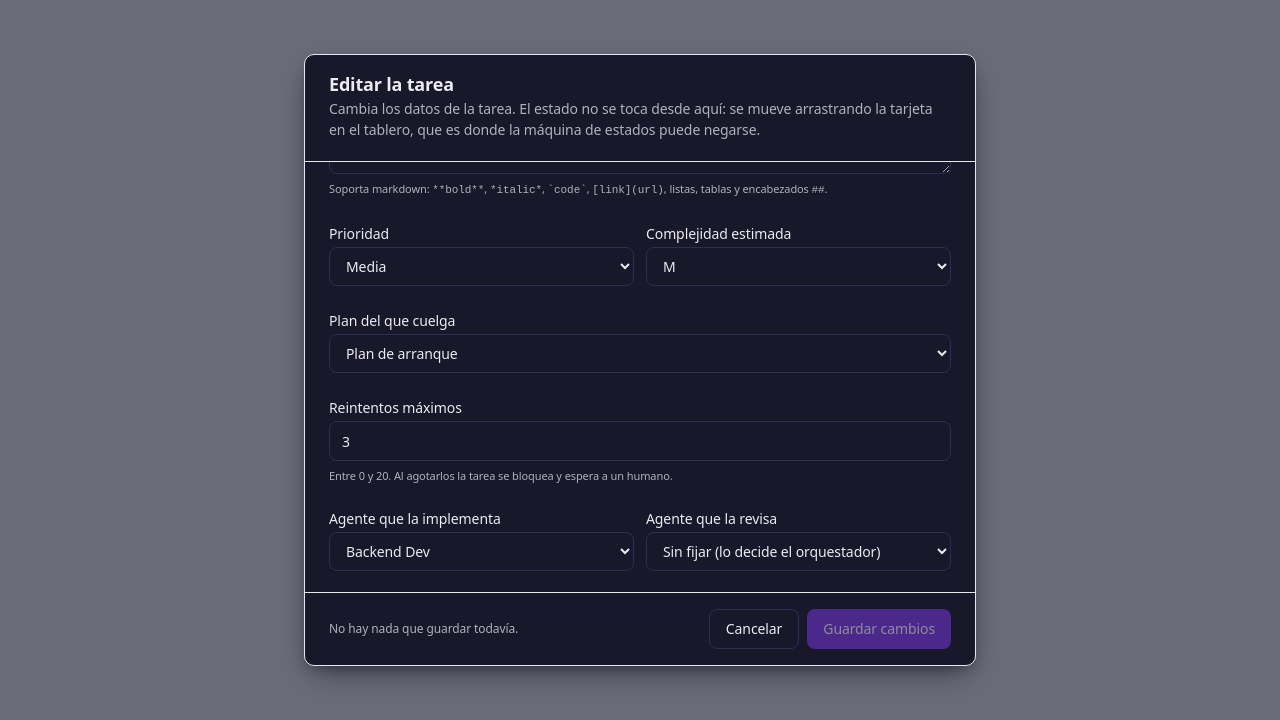
Test: TaskEditDialog — la validación de cliente espeja al servidor › avisa —sin bloquear— de que revisor e implementador serían el mismo agente
(page scrolled)
Step 1. Select "Backend Dev" in the dropdown with test id "task-edit-reviewer" → (798, 552), box top-left (646, 532), bottom-right (951, 572)
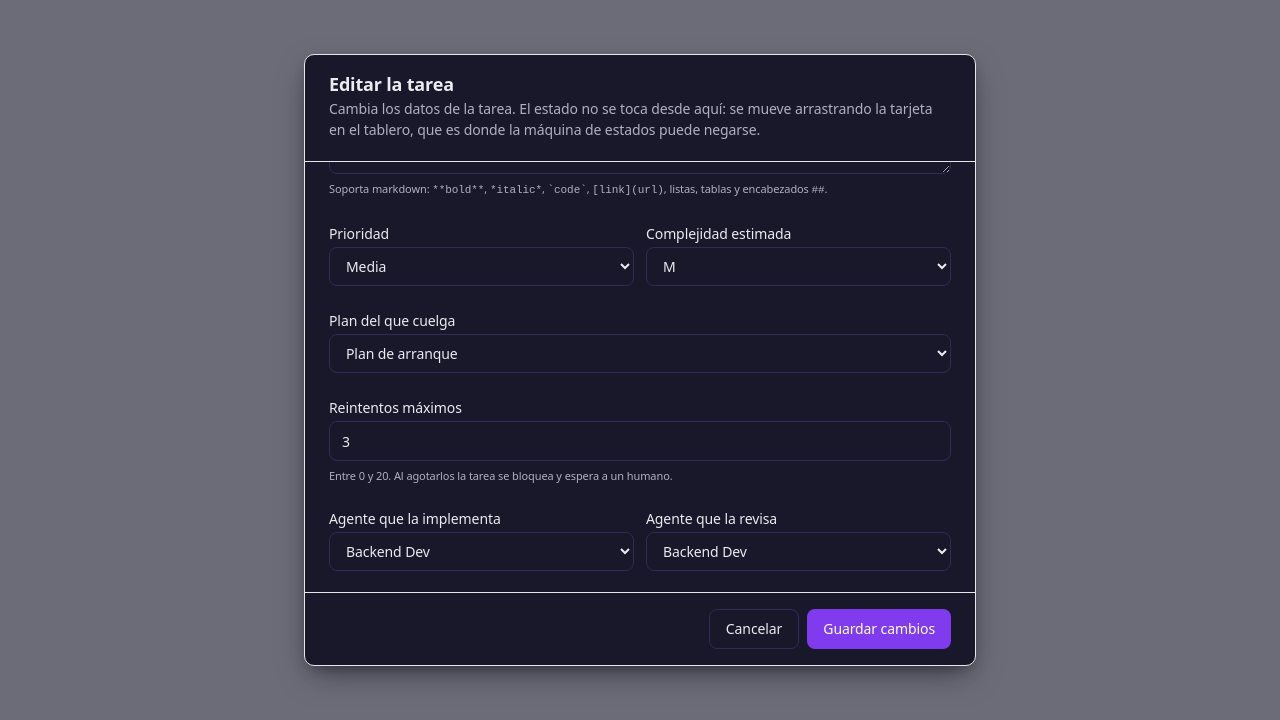
Result: the button with test id "task-edit-submit" is enabled at top-left (807, 609), bottom-right (951, 649)
